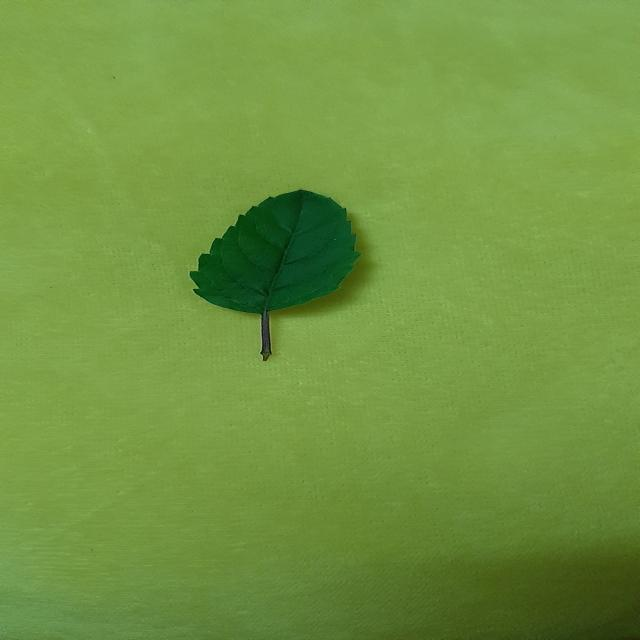tulsi: (190, 190, 360, 314)
